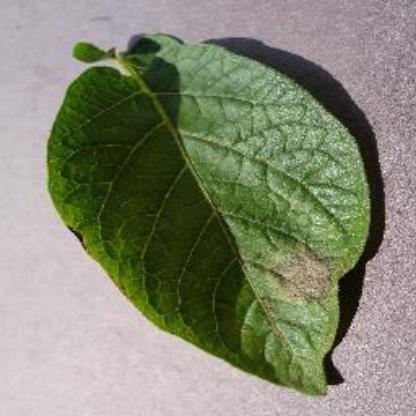Late-Blight: (38, 22, 392, 402)
